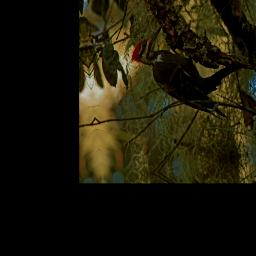Woodpecker: (127, 15, 230, 136)
